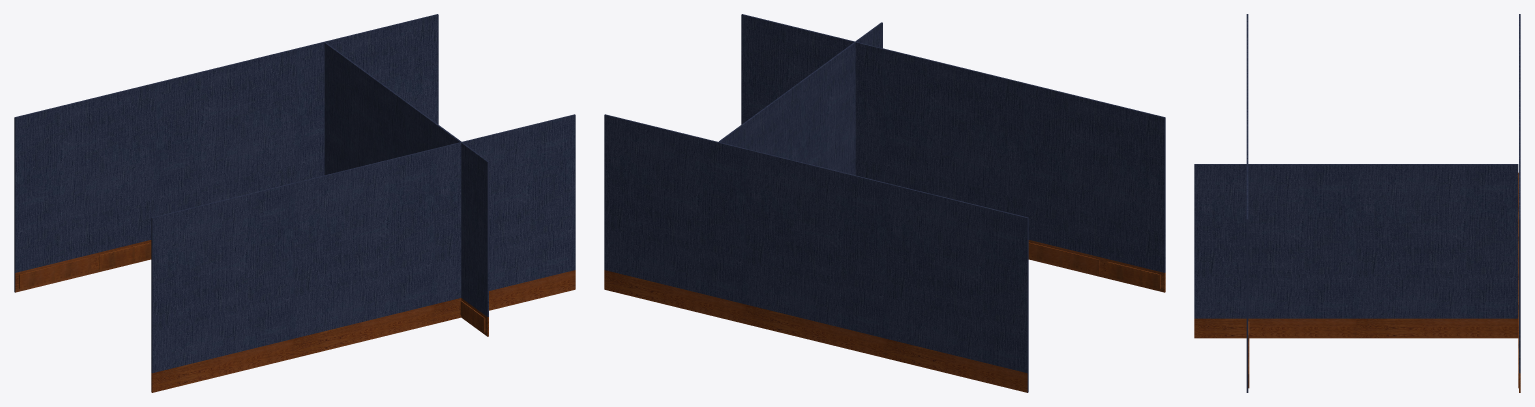
Rendered from WallsBathroom.fbx.
The picture shows the model from 3 angles, left to right: view 1: azimuth 30°, elevation 25°; view 2: azimuth 150°, elevation 25°; view 3: azimuth 270°, elevation 25°; orthographic projection.
Visible parts, largest first — view 1: Wall.004, Wall.012, Wall.005, Wall.013, Wall.010, Wall.011, Wall.006, Wall.007; view 2: Wall.005, Wall.011, Wall.010, Wall.004, Wall.012, Wall.013, Wall.007, Wall.006; view 3: Wall.006, Wall.007, Wall.013, Wall.011.
Boxes of the visible parts, left/top/right/bottom form: Wall.004: left=151, top=183, right=293, bottom=392; Wall.012: left=293, top=149, right=434, bottom=358; Wall.005: left=14, top=83, right=156, bottom=292; Wall.013: left=434, top=114, right=575, bottom=323; Wall.010: left=156, top=48, right=297, bottom=216; Wall.011: left=297, top=14, right=438, bottom=181; Wall.006: left=324, top=42, right=406, bottom=174; Wall.007: left=406, top=102, right=488, bottom=336; Wall.005: left=886, top=183, right=1028, bottom=392; Wall.011: left=604, top=114, right=745, bottom=323; Wall.010: left=745, top=149, right=886, bottom=358; Wall.004: left=1023, top=83, right=1165, bottom=292; Wall.012: left=882, top=48, right=1023, bottom=216; Wall.013: left=741, top=14, right=882, bottom=181; Wall.007: left=800, top=22, right=882, bottom=175; Wall.006: left=718, top=82, right=801, bottom=161; Wall.006: left=1356, top=164, right=1518, bottom=338; Wall.007: left=1194, top=164, right=1356, bottom=338; Wall.013: left=1246, top=151, right=1249, bottom=392; Wall.011: left=1518, top=151, right=1520, bottom=392.
Bounding box in the file's own units: 1645 × 649 × 1105.
